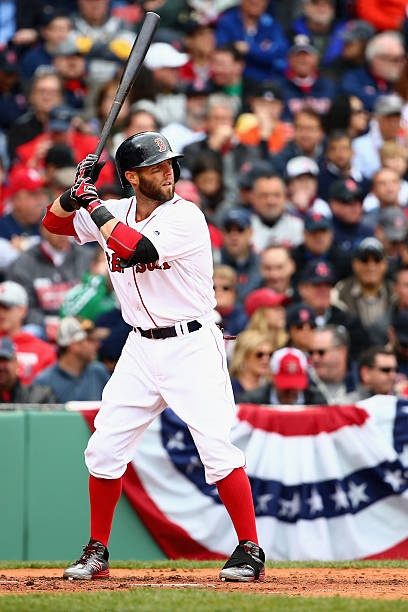bita: (97, 13, 159, 157)
